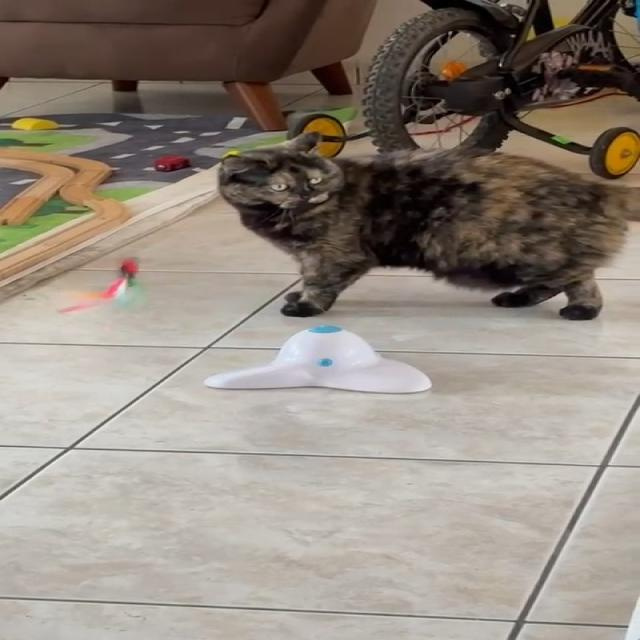authorized: (214, 130, 638, 320)
